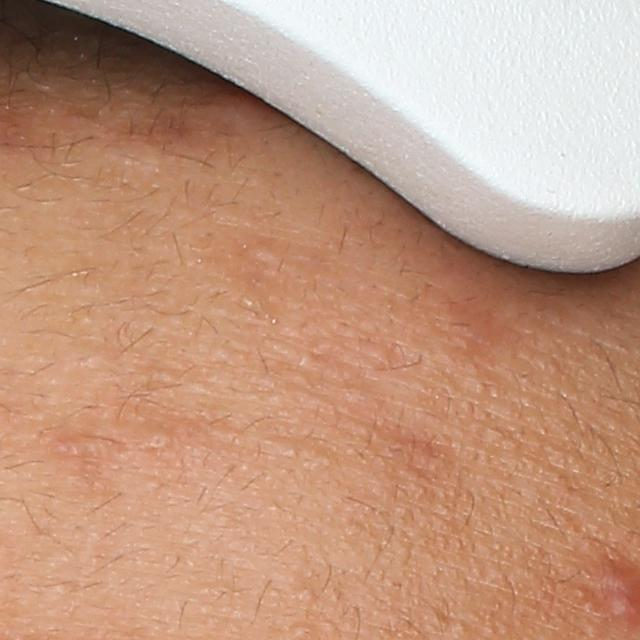comedo: (147, 430, 172, 451), (295, 585, 319, 606)
